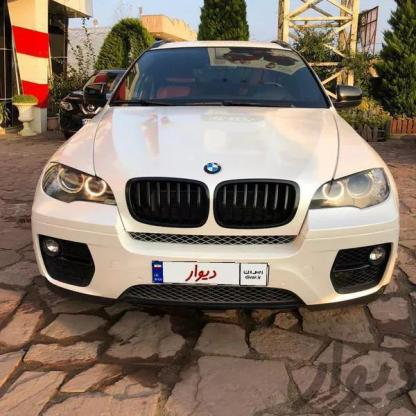Car: (39, 36, 394, 343), (43, 59, 130, 167)
